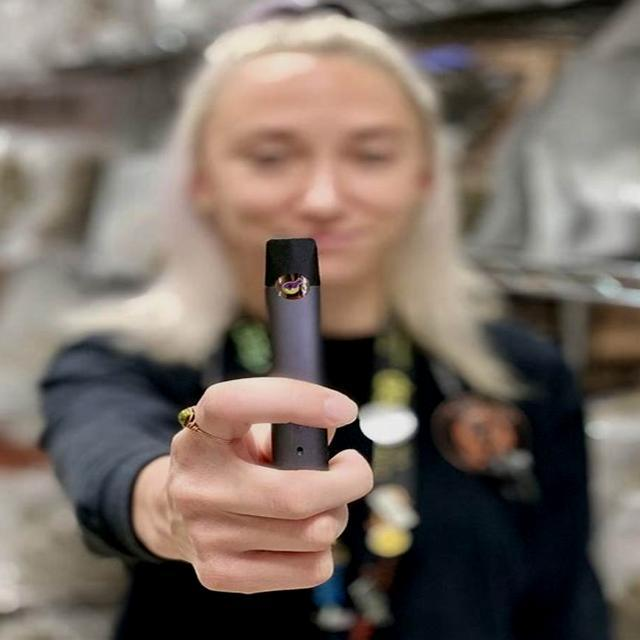Hazard: (268, 236, 329, 466)
